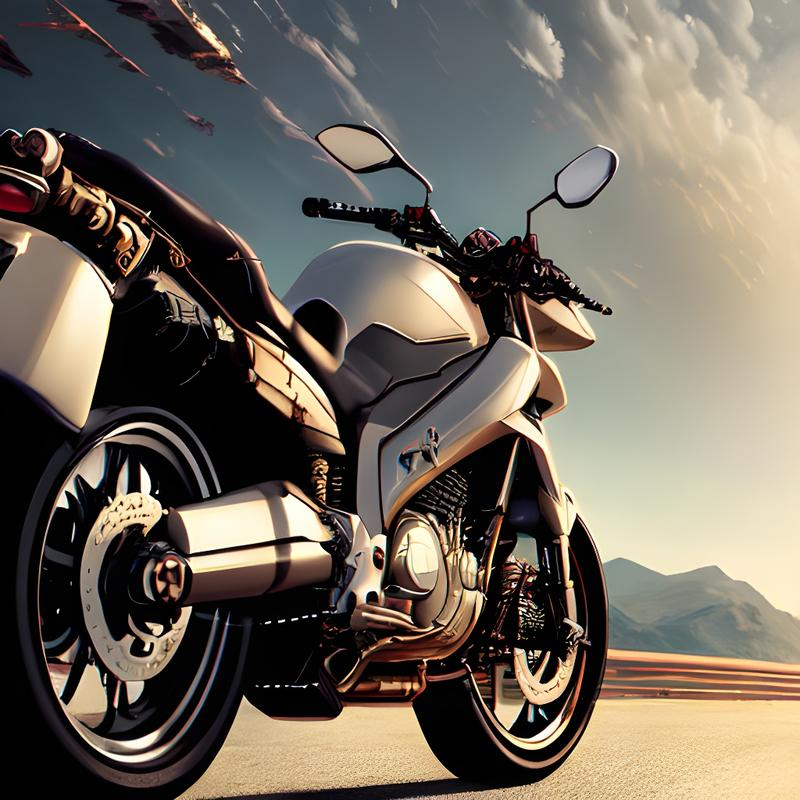摩托车: (1, 140, 625, 800)
